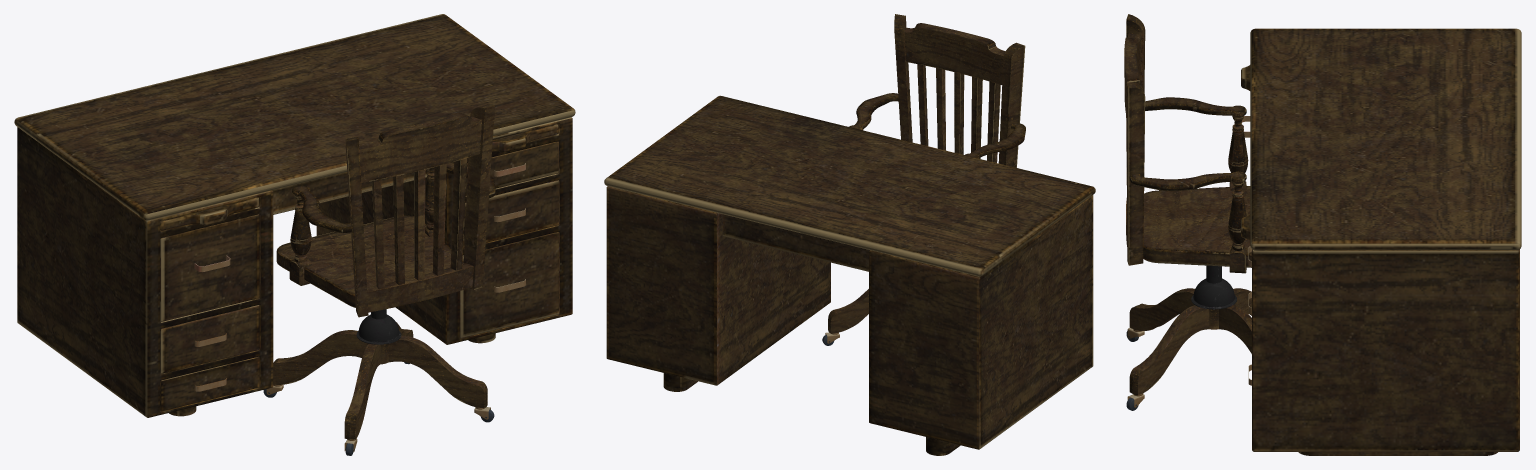
File: desk.glb
3 renders of one model, left to right at view 1: azimuth 30°, elevation 25°; view 2: azimuth 150°, elevation 25°; view 3: azimuth 270°, elevation 25°, orthographic. The views are drawn at different scales.
Parts seen in each view (by area): view 1: Desk_0, Cylinder_1; view 2: Desk_0, Cylinder_1; view 3: Desk_0, Cylinder_1.
Boxes of the visible parts, <box> form: Desk_0: <box>14,14,575,417</box>; Cylinder_1: <box>263,104,495,455</box>; Desk_0: <box>604,95,1095,455</box>; Cylinder_1: <box>822,14,1025,345</box>; Desk_0: <box>1241,28,1521,455</box>; Cylinder_1: <box>1124,14,1251,410</box>.
Bounding box in the file's own units: 2.03 × 1.42 × 1.58.
Materials: 8 (6 with a texture image).
